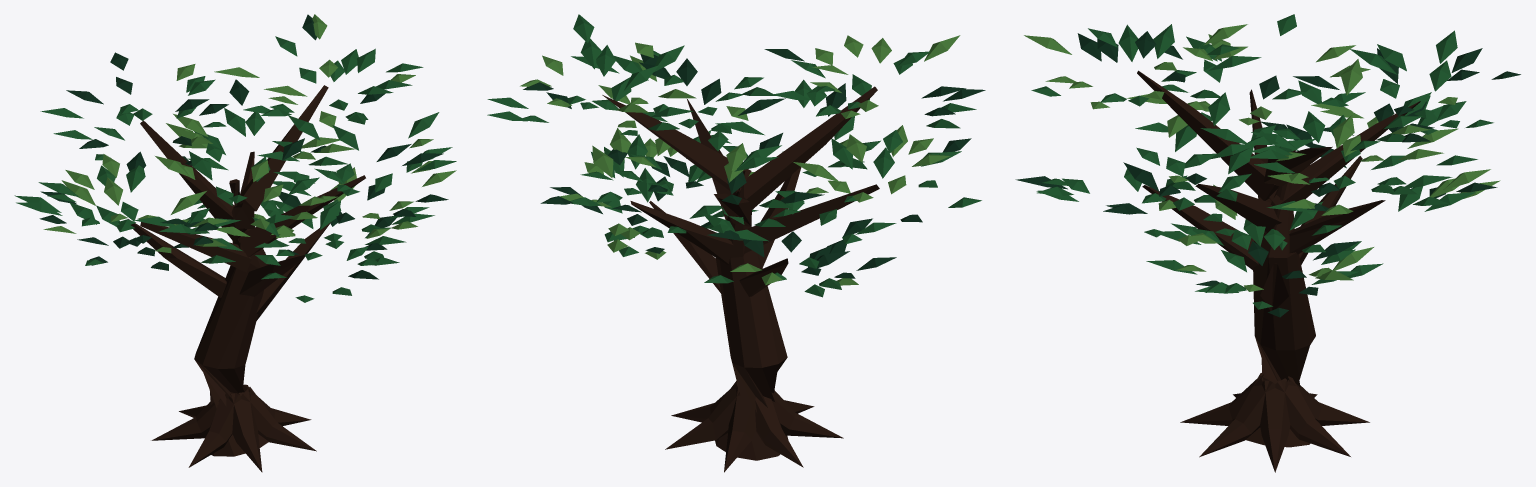
File: Arvore_copa_aberta_LOD1.fbx
3 renders of one model, left to right at view 1: azimuth 30°, elevation 25°; view 2: azimuth 150°, elevation 25°; view 3: azimuth 270°, elevation 25°, orthographic. The views are drawn at different scales.
Visible parts, largest first — view 1: Arvore_copa_aberta_LOD1; view 2: Arvore_copa_aberta_LOD1; view 3: Arvore_copa_aberta_LOD1.
Boxes of the visible parts, x1,y1,x2,y2 form: Arvore_copa_aberta_LOD1: (14, 14, 456, 472); Arvore_copa_aberta_LOD1: (487, 14, 985, 472); Arvore_copa_aberta_LOD1: (1015, 14, 1520, 472).
Size of the model in its own units: 479 by 425 by 495.
1 material, 1 textured.
